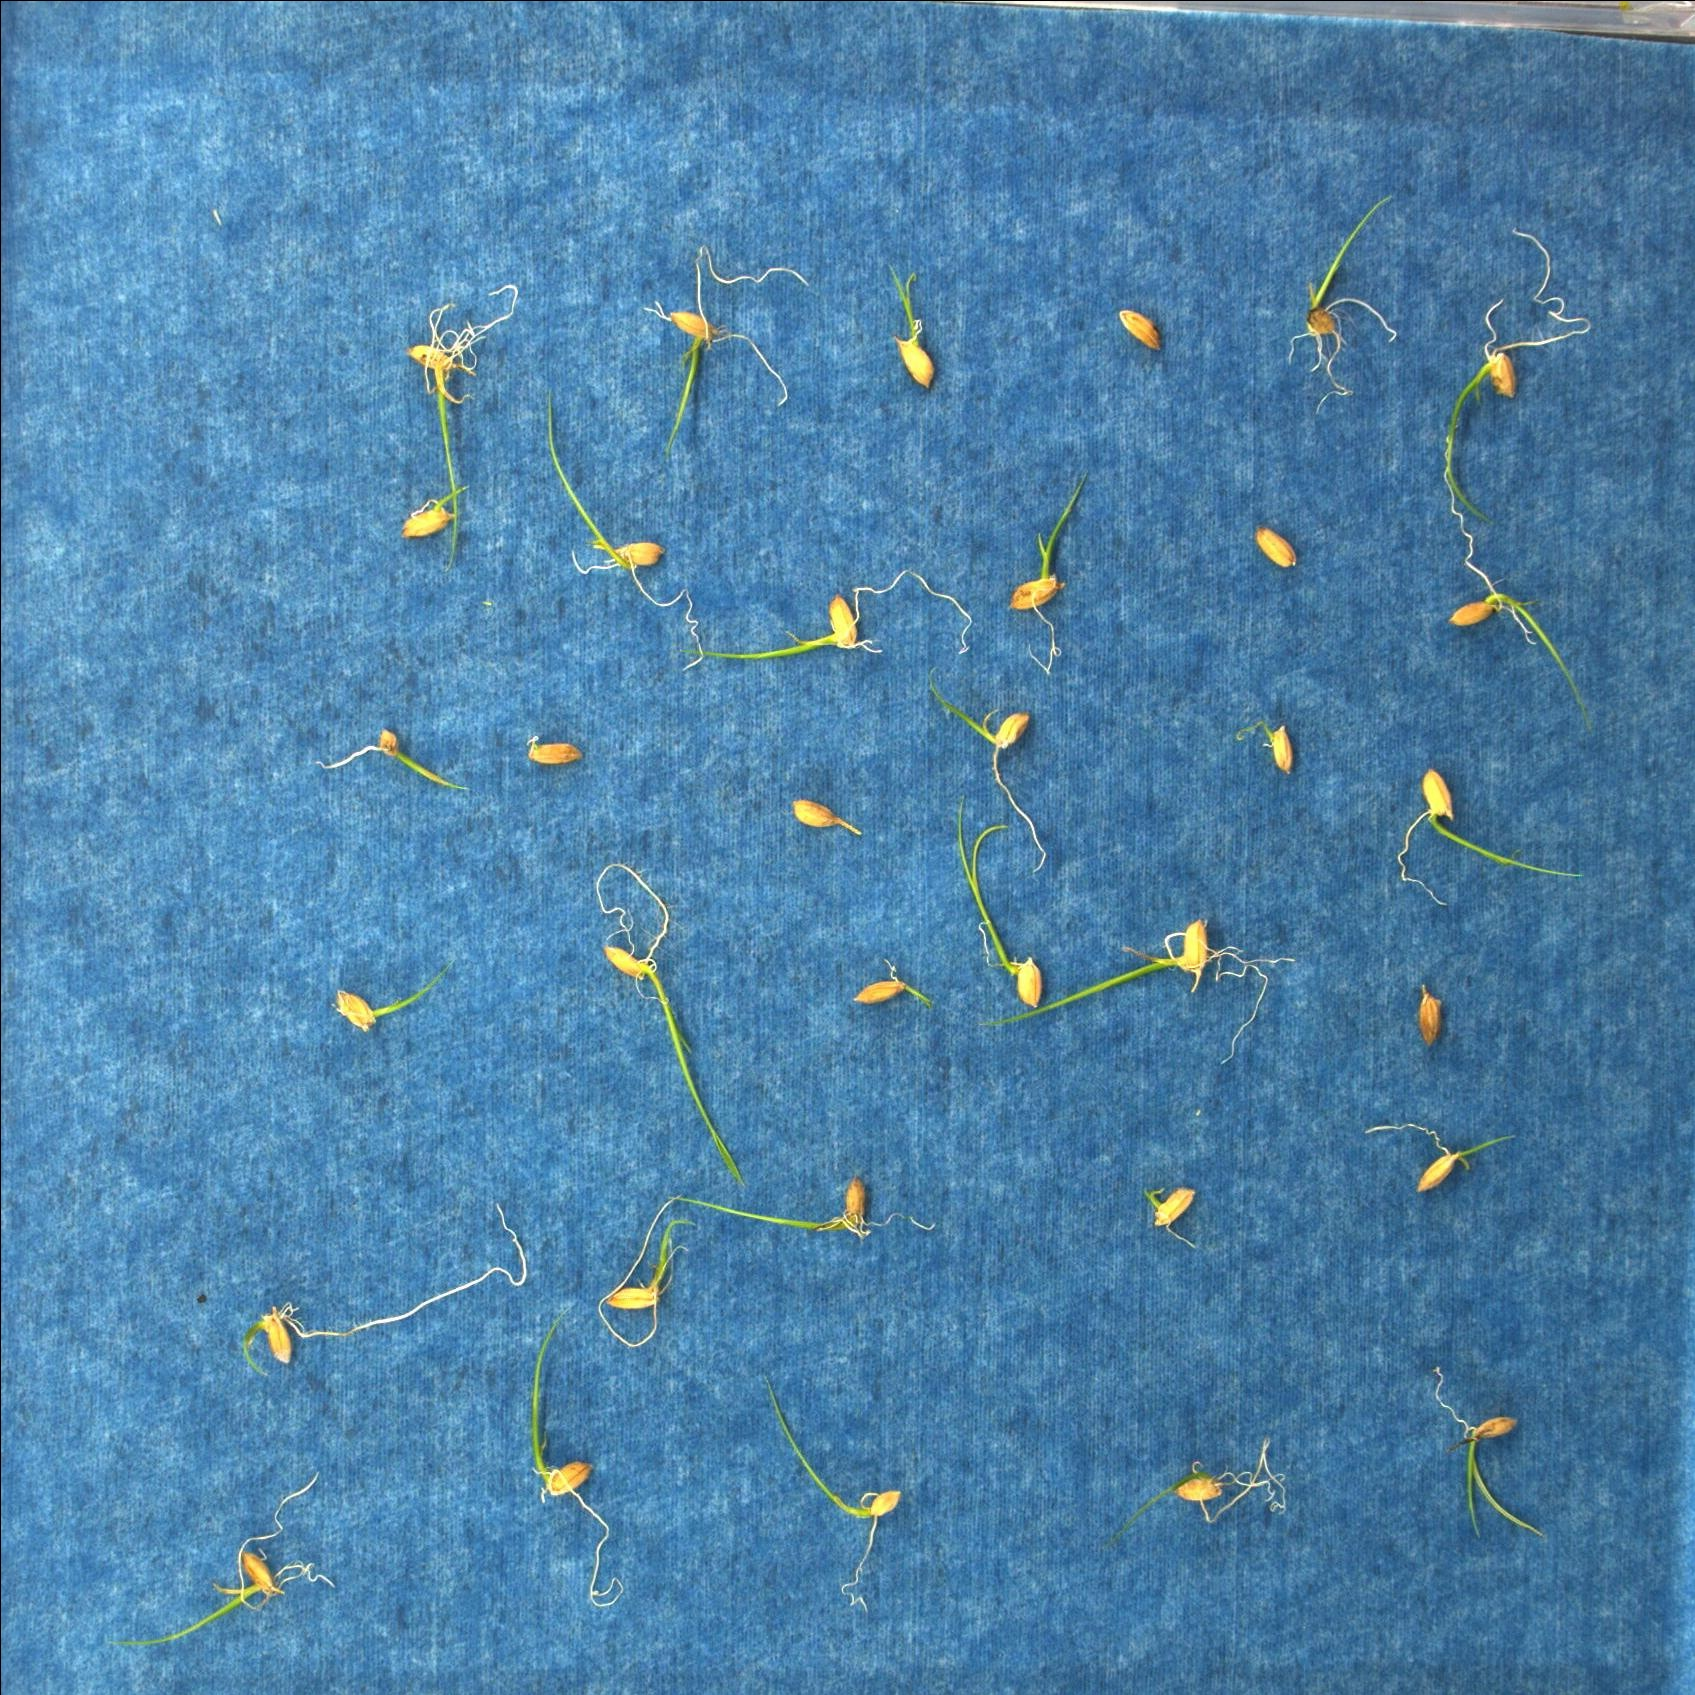not sprout: (778, 785, 871, 851), (1142, 1173, 1209, 1254), (1405, 979, 1458, 1059), (1250, 705, 1309, 771), (1108, 298, 1167, 352), (1246, 522, 1304, 570)
sprout: (1417, 442, 1622, 744), (584, 851, 767, 1181), (1426, 214, 1617, 529), (220, 1194, 537, 1381), (531, 380, 726, 672), (497, 1301, 657, 1620), (986, 905, 1293, 1069), (607, 245, 834, 453), (82, 1470, 360, 1639), (762, 1367, 900, 1661), (906, 650, 1076, 882), (1270, 186, 1411, 421), (1391, 753, 1596, 913), (695, 560, 973, 677), (376, 289, 490, 570), (1406, 1354, 1554, 1549), (663, 1156, 925, 1256), (577, 1191, 730, 1350), (947, 807, 1066, 1004), (1003, 487, 1107, 691), (1113, 1440, 1291, 1548), (1346, 1121, 1541, 1198), (829, 934, 947, 1031), (312, 967, 469, 1038), (315, 719, 456, 795), (875, 258, 951, 394), (386, 478, 473, 553), (509, 712, 596, 778)
